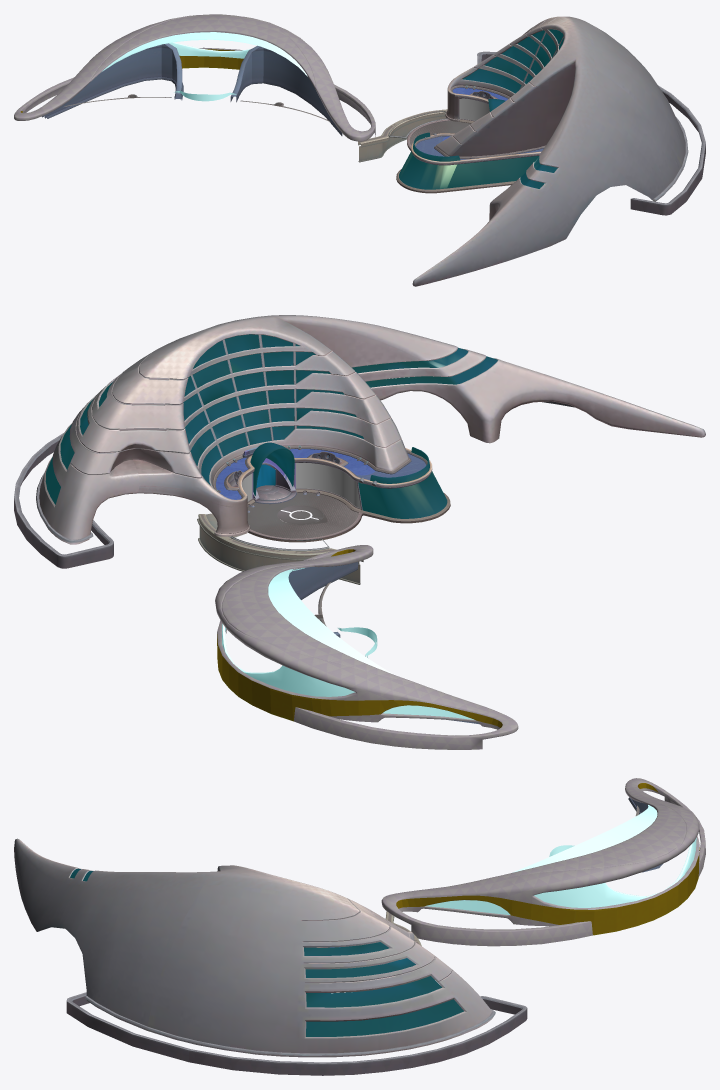
The model's file is pref_sm_4v4pointbake_CSD_L_lv2.fbx.
3 views of the same model, one above another, from view 1: azimuth 30°, elevation 25°; view 2: azimuth 150°, elevation 25°; view 3: azimuth 270°, elevation 25° (orthographic). The views are drawn at different scales.
Visible parts, largest first — view 1: sm_4v4pointbake_CSD_L_a_lv2, sm_4v4pointbake_CSD_L_g_lv2, sm_4v4pointbake_CSD_L_h_lv2, sm_4v4pointbake_CSD_L_b_lv2, sm_4v4pointbake_CSD_L_i_lv2, sm_4v4pointbake_CSD_L_j_lv2, sm_4v4pointbake_CSD_L_f_lv2, sm_4v4pointbake_CSD_L_c_lv2; view 2: sm_4v4pointbake_CSD_L_a_lv2, sm_4v4pointbake_CSD_L_b_lv2, sm_4v4pointbake_CSD_L_g_lv2, sm_4v4pointbake_CSD_L_h_lv2, sm_4v4pointbake_CSD_L_i_lv2, sm_4v4pointbake_CSD_L_j_lv2, sm_4v4pointbake_CSD_L_f_lv2, sm_4v4pointbake_CSD_L_c_lv2, sm_4v4pointbake_CSD_L_d_lv2; view 3: sm_4v4pointbake_CSD_L_a_lv2, sm_4v4pointbake_CSD_L_g_lv2, sm_4v4pointbake_CSD_L_b_lv2, sm_4v4pointbake_CSD_L_h_lv2, sm_4v4pointbake_CSD_L_i_lv2.
Boxes of the visible parts, <box> form: sm_4v4pointbake_CSD_L_a_lv2: <box>396,16,705,286</box>; sm_4v4pointbake_CSD_L_g_lv2: <box>14,14,375,141</box>; sm_4v4pointbake_CSD_L_h_lv2: <box>20,43,342,135</box>; sm_4v4pointbake_CSD_L_b_lv2: <box>399,29,563,189</box>; sm_4v4pointbake_CSD_L_i_lv2: <box>102,32,307,101</box>; sm_4v4pointbake_CSD_L_j_lv2: <box>358,109,448,162</box>; sm_4v4pointbake_CSD_L_f_lv2: <box>409,120,470,145</box>; sm_4v4pointbake_CSD_L_c_lv2: <box>459,98,489,120</box>; sm_4v4pointbake_CSD_L_a_lv2: <box>14,315,705,568</box>; sm_4v4pointbake_CSD_L_b_lv2: <box>45,334,497,518</box>; sm_4v4pointbake_CSD_L_g_lv2: <box>215,545,518,749</box>; sm_4v4pointbake_CSD_L_h_lv2: <box>217,549,502,727</box>; sm_4v4pointbake_CSD_L_i_lv2: <box>222,568,474,719</box>; sm_4v4pointbake_CSD_L_j_lv2: <box>197,513,363,584</box>; sm_4v4pointbake_CSD_L_f_lv2: <box>247,492,358,538</box>; sm_4v4pointbake_CSD_L_c_lv2: <box>242,462,360,508</box>; sm_4v4pointbake_CSD_L_d_lv2: <box>277,505,323,524</box>; sm_4v4pointbake_CSD_L_a_lv2: <box>14,838,527,1075</box>; sm_4v4pointbake_CSD_L_g_lv2: <box>381,778,705,946</box>; sm_4v4pointbake_CSD_L_b_lv2: <box>70,868,463,1036</box>; sm_4v4pointbake_CSD_L_h_lv2: <box>396,783,699,935</box>; sm_4v4pointbake_CSD_L_i_lv2: <box>426,805,696,914</box>.
Size of the model in its own units: 73.91 by 17.49 by 75.69.
